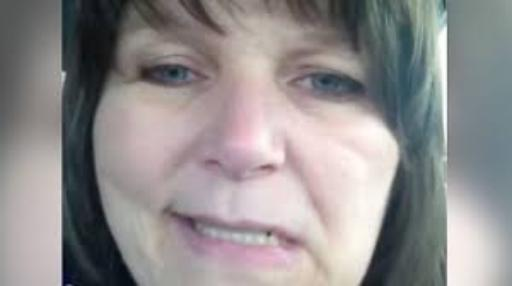left_eye: (290, 72, 367, 96)
left_lip_corner: (277, 226, 306, 260)
right_eye: (142, 63, 212, 86)
right_lip_corner: (161, 207, 196, 228)
